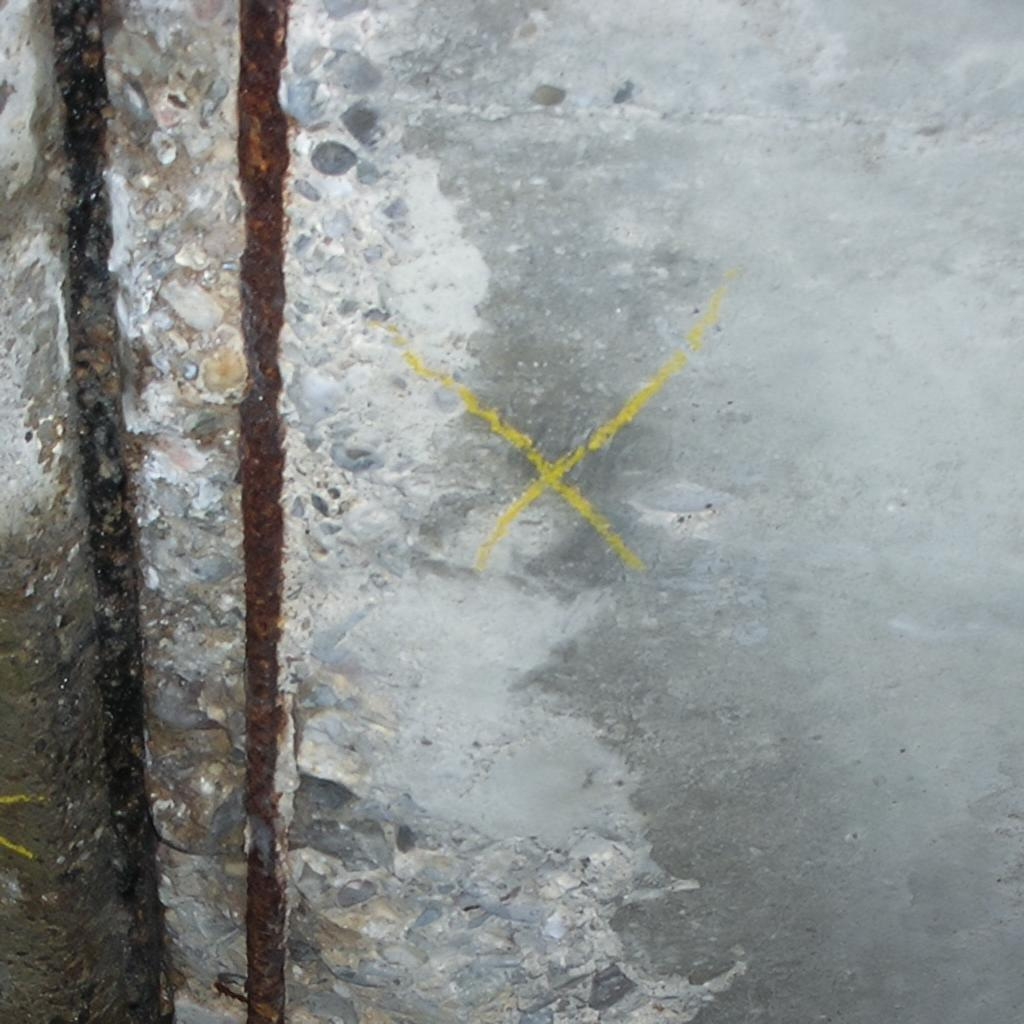exposed_rebar: (50, 0, 162, 977), (238, 0, 290, 1024)
